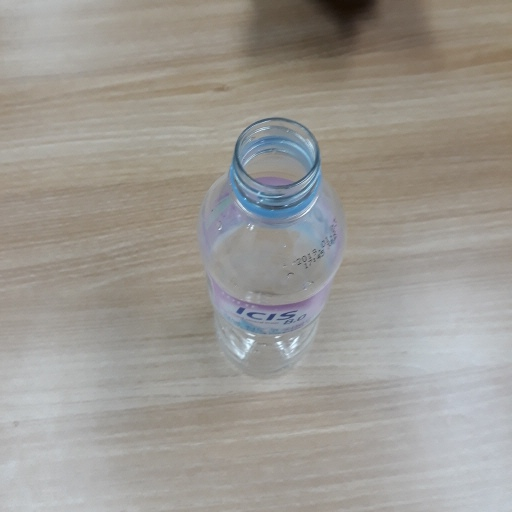Plastic_0: (197, 117, 348, 386)
